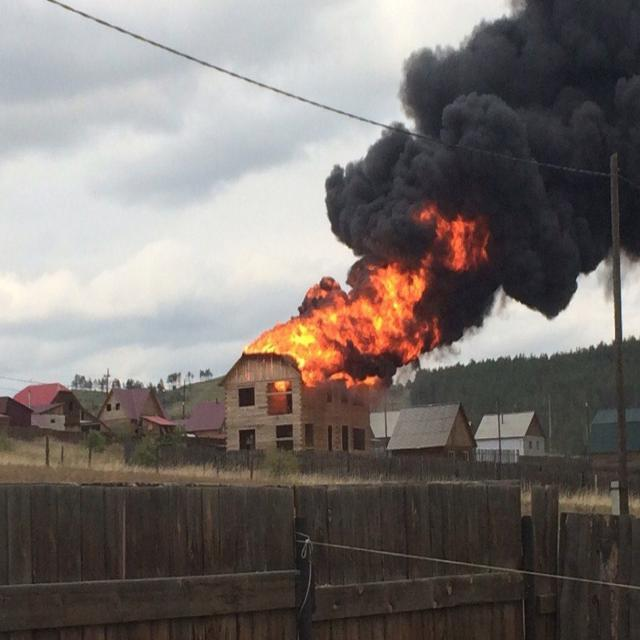Fire: (244, 264, 437, 390), (416, 206, 489, 274)
Smoke: (300, 0, 640, 381)
